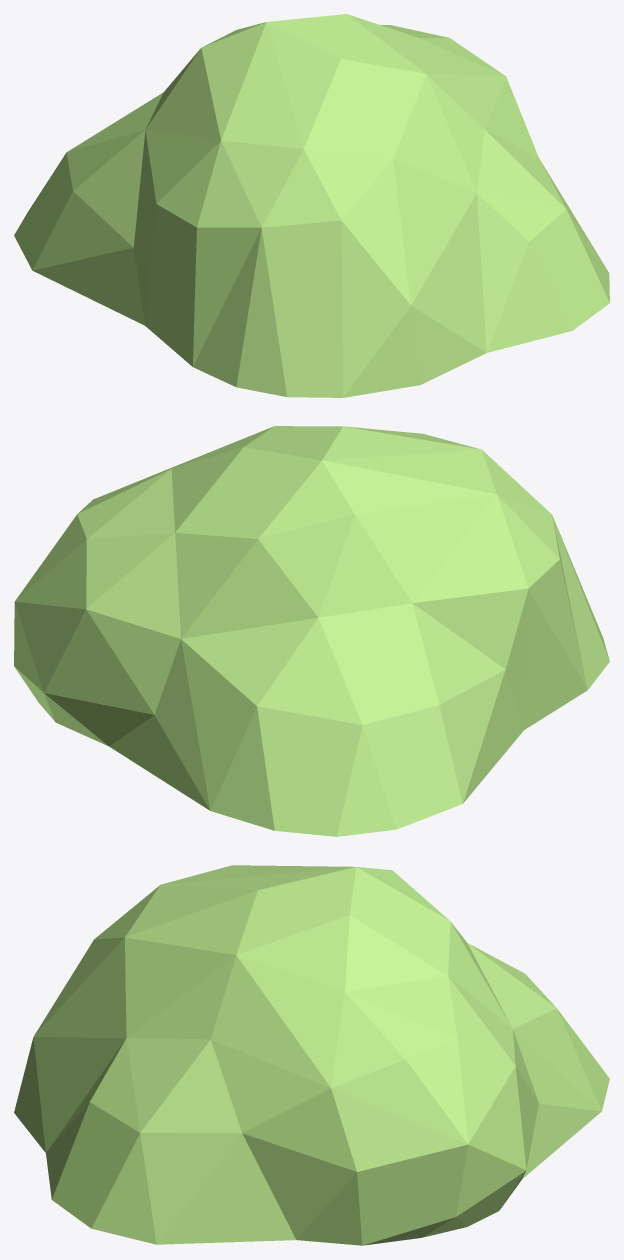
The model's file is Bush_b_l_03.fbx.
3 renders of one model, top to bottom at view 1: azimuth 30°, elevation 25°; view 2: azimuth 150°, elevation 25°; view 3: azimuth 270°, elevation 25°, orthographic. The views are drawn at different scales.
Visible parts, largest first — view 1: Bush_b_l_03; view 2: Bush_b_l_03; view 3: Bush_b_l_03.
Boxes of the visible parts, x1,y1,x2,y2 form: Bush_b_l_03: (14,14,609,397); Bush_b_l_03: (14,426,609,836); Bush_b_l_03: (14,865,609,1245).
Bounding box in the file's own units: 252 × 133 × 283.
